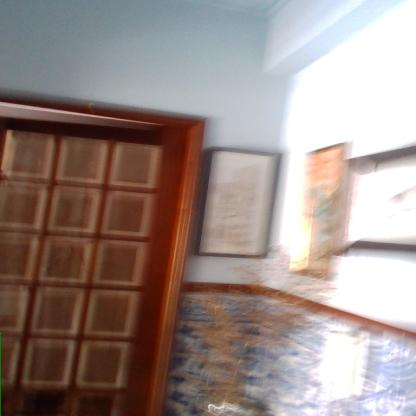semi: (0, 78, 214, 416)
